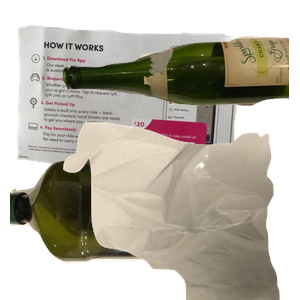glass: (60, 34, 300, 133)
paper: (14, 22, 247, 191)
plastic: (10, 149, 250, 300)
trash: (61, 120, 300, 300)
